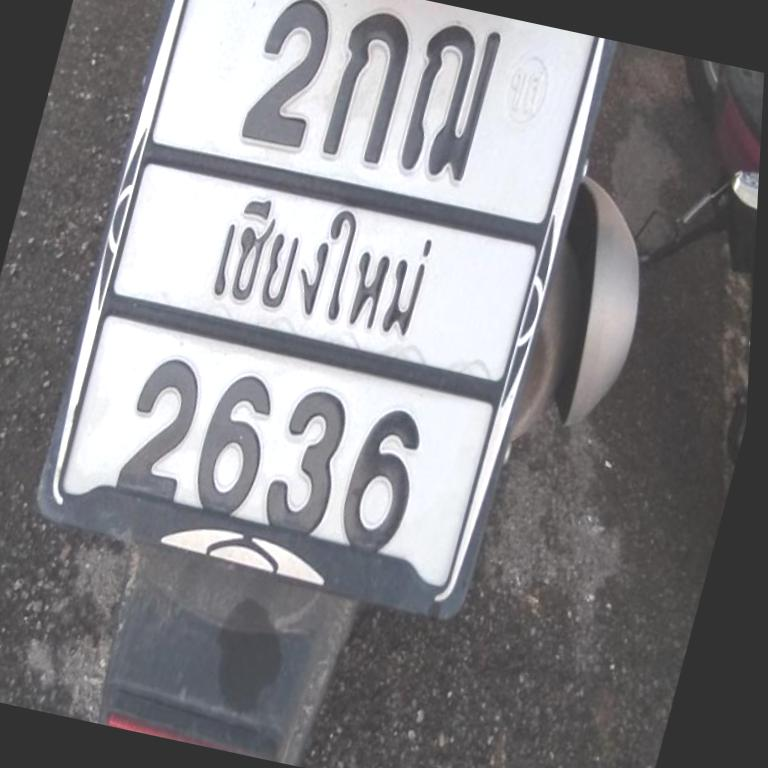license plate: (35, 0, 615, 625)
